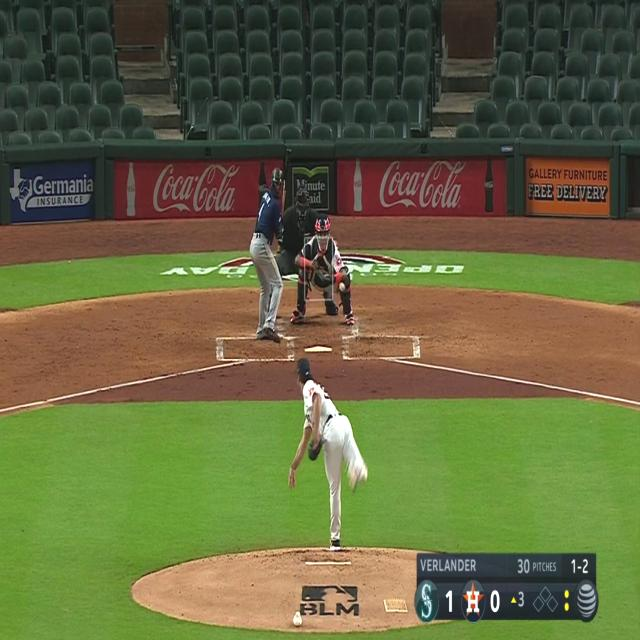baseball: (339, 282, 345, 292)
